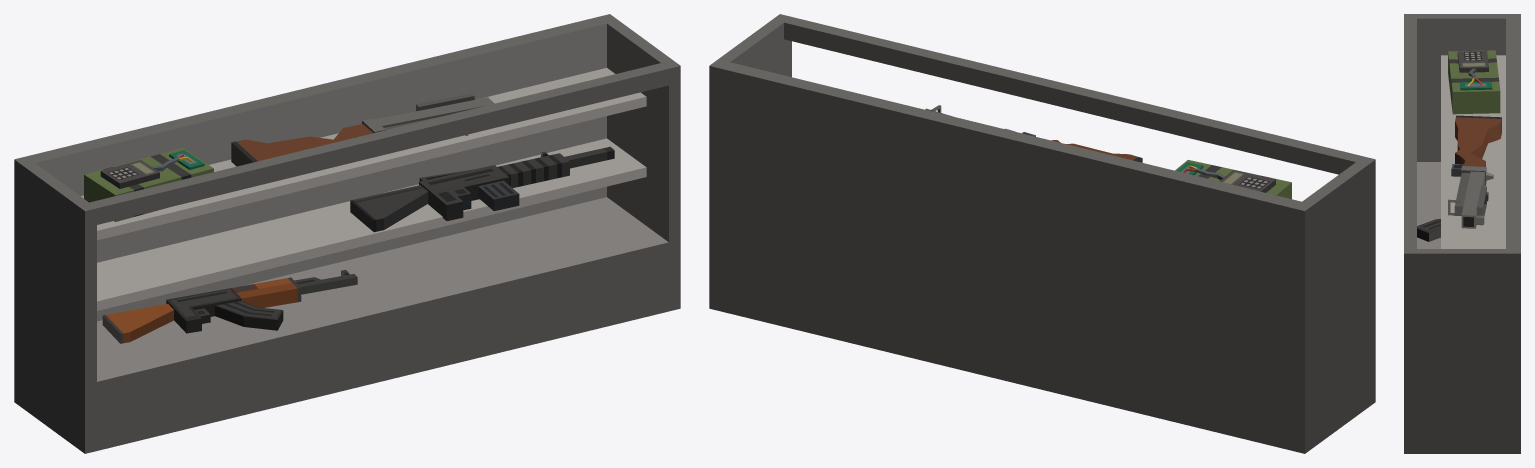
Rendered from AI_Prop_Guns_Cabinet_02.fbx.
3 views of the same model, side by side, from view 1: azimuth 30°, elevation 25°; view 2: azimuth 150°, elevation 25°; view 3: azimuth 270°, elevation 25° (orthographic). The views are drawn at different scales.
Parts seen in each view (by area): view 1: AI_Prop_Guns_Cabinet_02; view 2: AI_Prop_Guns_Cabinet_02; view 3: AI_Prop_Guns_Cabinet_02.
Part boxes in pixels (<box>): AI_Prop_Guns_Cabinet_02: <box>14,14,680,453</box>; AI_Prop_Guns_Cabinet_02: <box>709,14,1375,453</box>; AI_Prop_Guns_Cabinet_02: <box>1404,14,1520,453</box>.
Bounding box in the file's own units: 4.85 × 1.89 × 0.9983.
